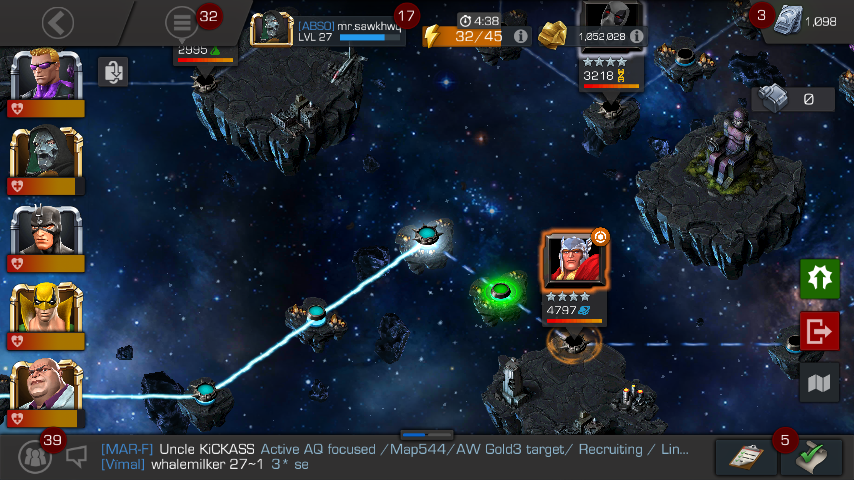green: (491, 283, 512, 299)
